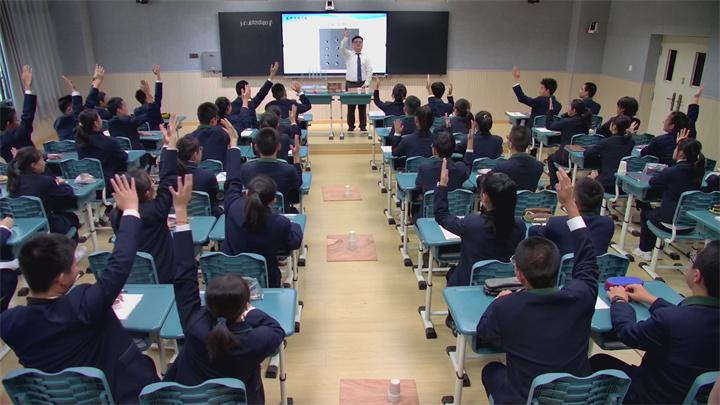hands-up: (6, 172, 143, 362), (171, 175, 282, 371), (488, 171, 599, 355), (221, 121, 294, 247), (436, 154, 523, 243), (155, 119, 215, 199), (650, 129, 706, 205), (212, 60, 277, 116), (2, 60, 42, 147), (507, 62, 560, 115), (59, 64, 107, 120), (663, 82, 711, 134), (427, 75, 471, 121), (547, 99, 592, 137), (136, 67, 164, 123), (264, 84, 316, 112), (371, 79, 411, 114)
listen: (614, 249, 714, 369)
